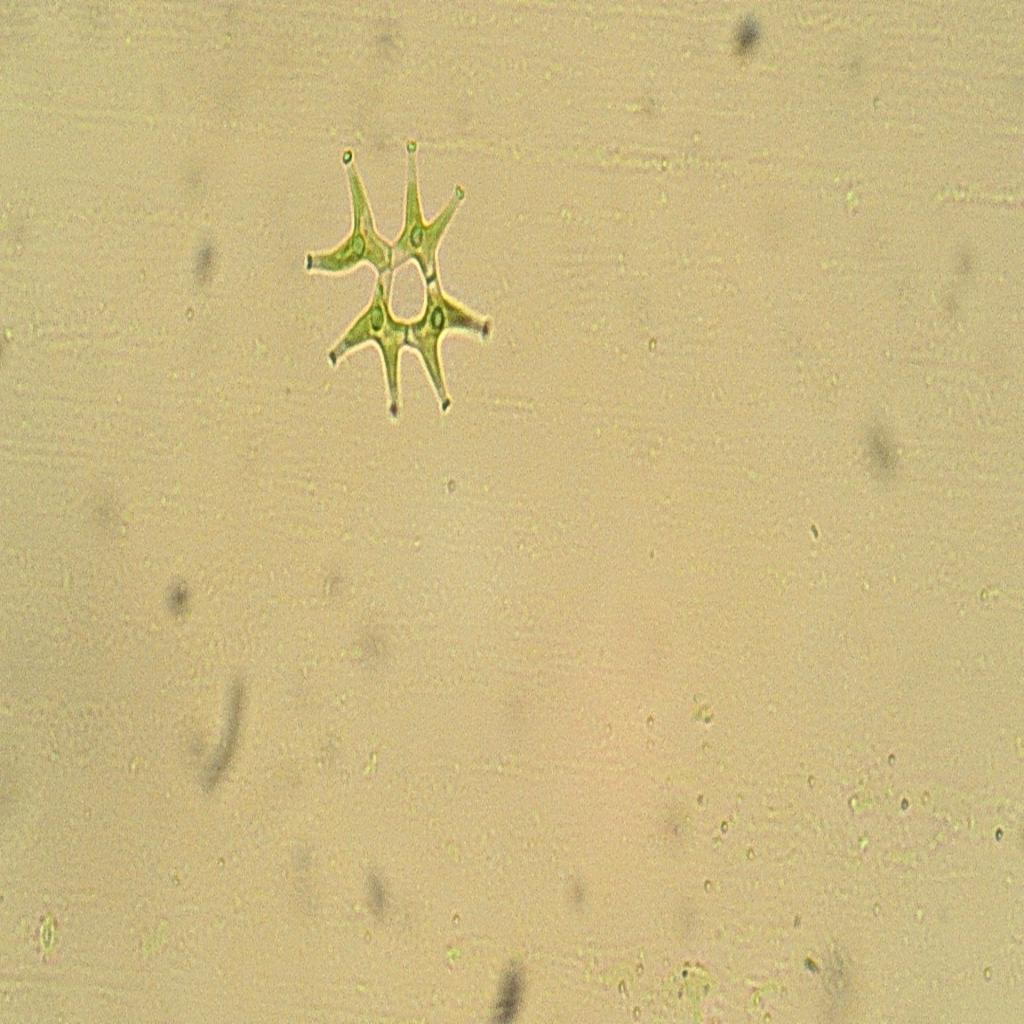Pediastrum_CT: (289, 113, 505, 448)
